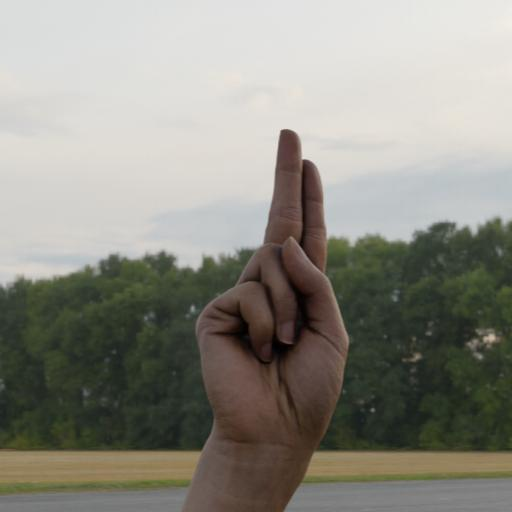U: (154, 107, 422, 441)
